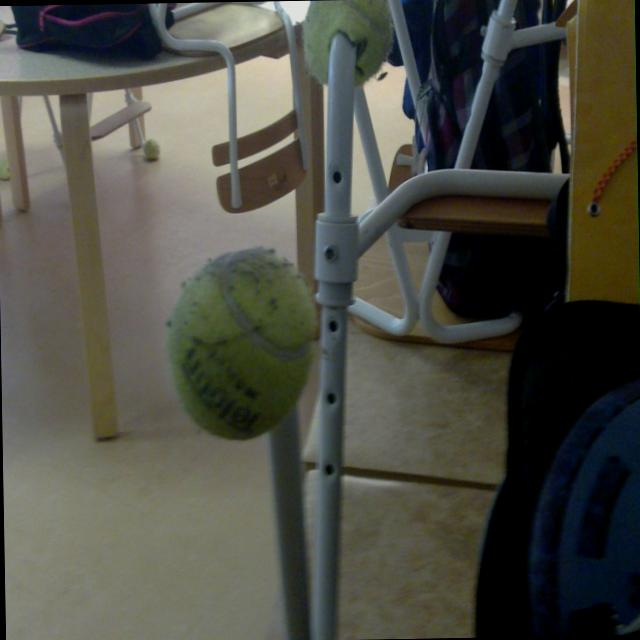Tennis Ball: (164, 244, 318, 441)
